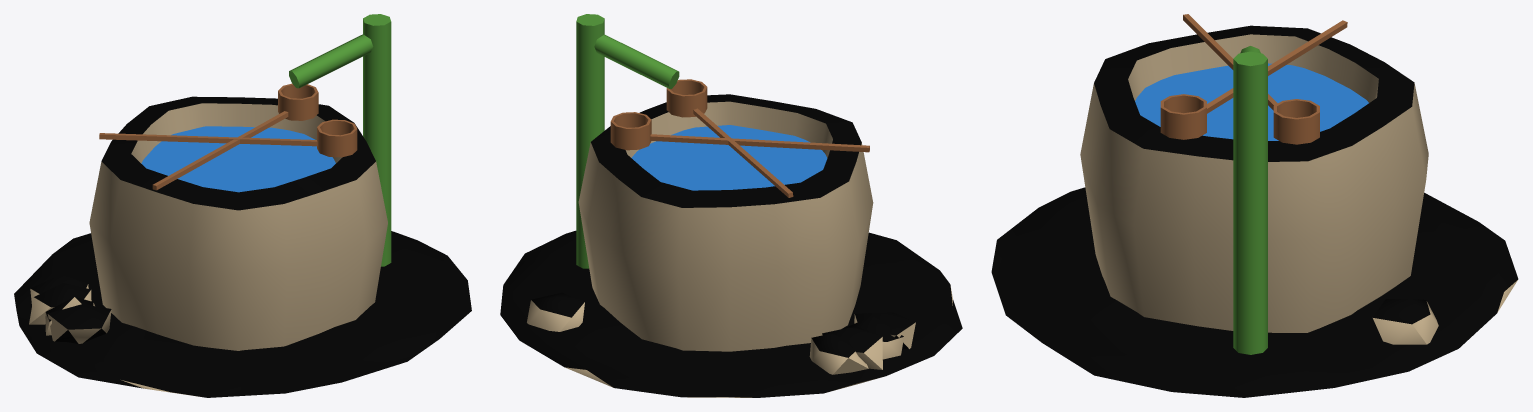
File: WaterBasin.fbx
3 renders of one model, left to right at view 1: azimuth 30°, elevation 25°; view 2: azimuth 150°, elevation 25°; view 3: azimuth 270°, elevation 25°, orthographic. The views are drawn at different scales.
Visible parts, largest first — view 1: WaterBasin; view 2: WaterBasin; view 3: WaterBasin.
Boxes of the visible parts, left/top/right/bottom form: WaterBasin: left=14, top=14, right=471, bottom=397; WaterBasin: left=500, top=14, right=962, bottom=397; WaterBasin: left=991, top=14, right=1518, bottom=397.
Bounding box in the file's own units: 1.62 × 0.95 × 1.52.
Materials: 1 (1 with a texture image).
